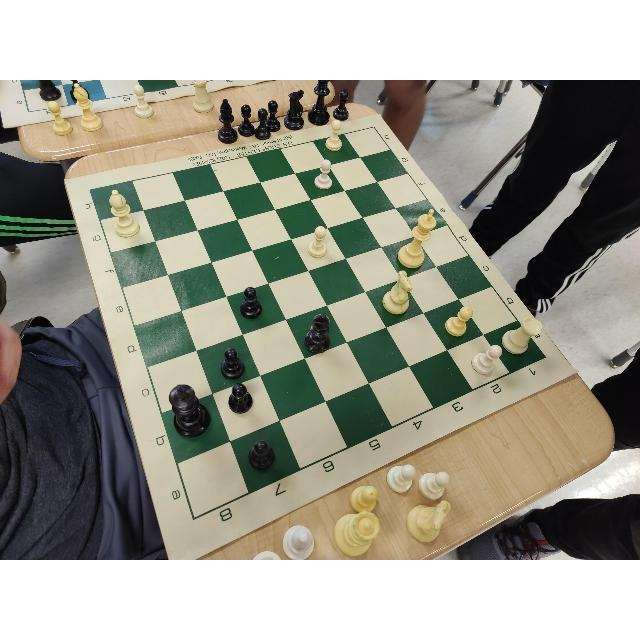black-bishop: (305, 313, 331, 355)
black-king: (169, 384, 211, 439)
black-knight: (38, 80, 61, 100)
black-pawn: (248, 440, 277, 472), (220, 347, 245, 380), (228, 384, 253, 414), (240, 286, 262, 320)
white-bishop: (110, 189, 140, 236)
white-king: (397, 209, 437, 269)
white-knight: (383, 270, 413, 315)
white-pawn: (472, 344, 504, 375), (445, 307, 473, 337), (308, 227, 327, 259), (315, 158, 333, 189), (325, 120, 342, 152)
white-rook: (501, 317, 542, 355)
